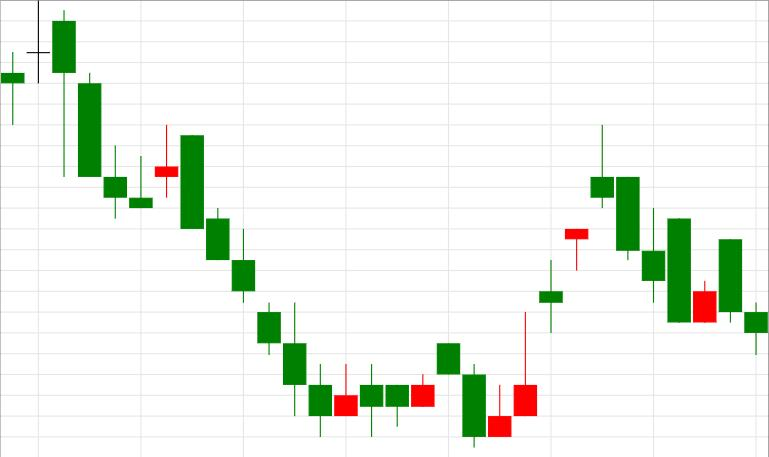shooting_star_fall: (488, 125, 614, 438)
